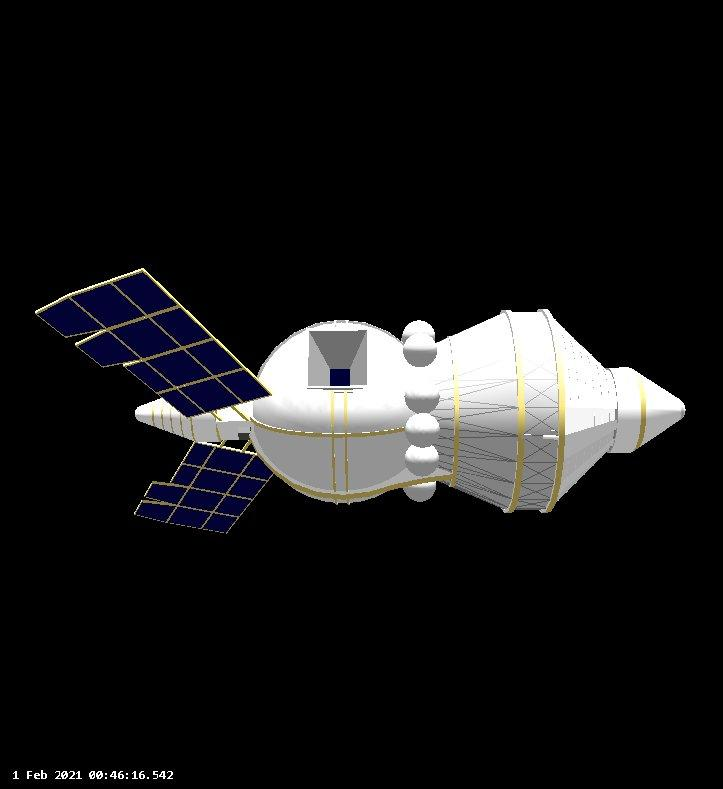body: (134, 308, 690, 516)
solar: (33, 266, 276, 419), (134, 443, 279, 539)
